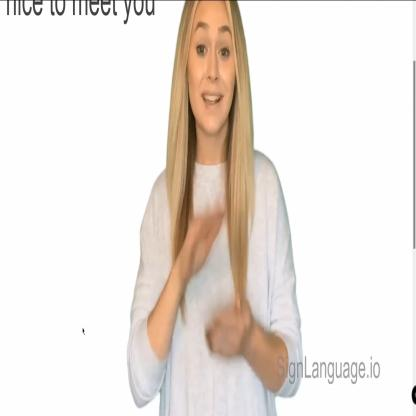NiceToMeetYou: (168, 192, 257, 378)
